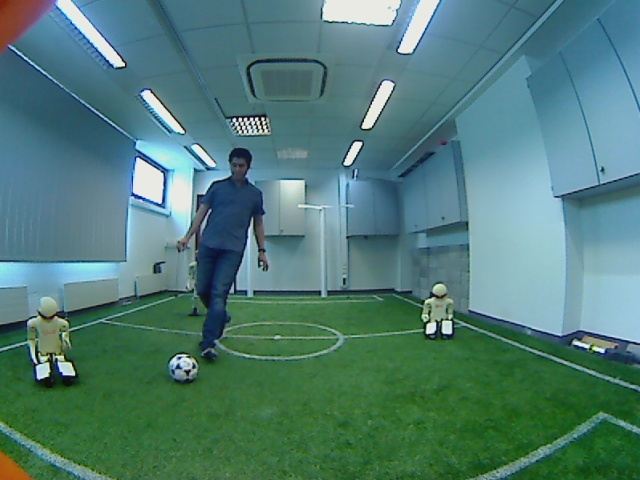ball: (164, 351, 201, 386)
robot: (19, 291, 88, 387), (413, 281, 461, 347), (184, 247, 205, 321)
